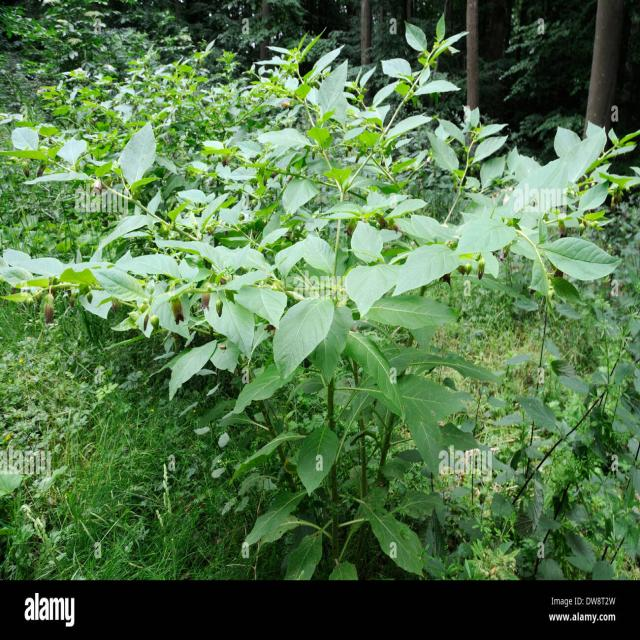Poisonous-Deadly_Nightshade: (13, 38, 358, 439)
